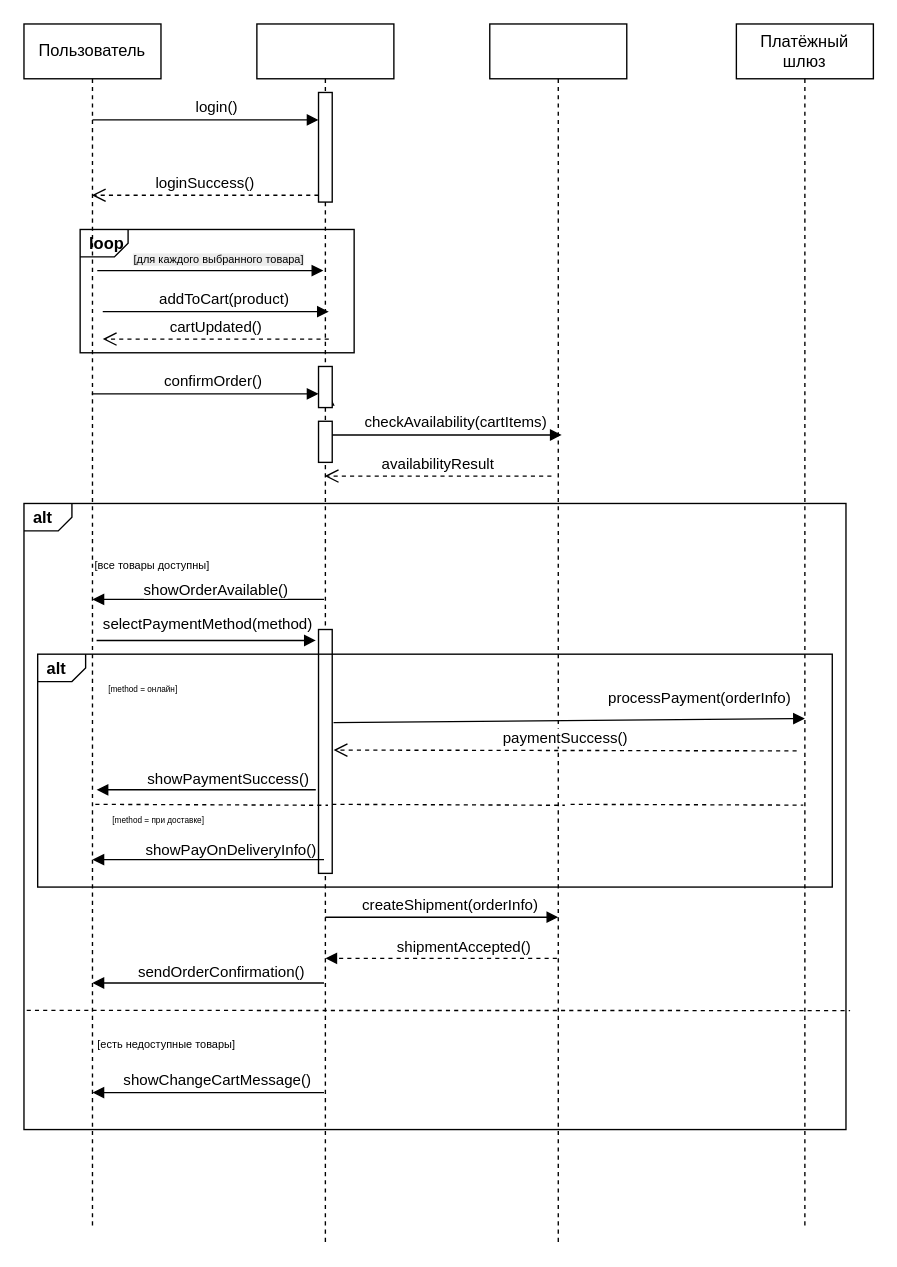
This 897x1267 diagram has some shape labels left out. Here are the shapes that lost their labels. From the top down, the box of each, then its label:
(256, 23, 394, 1243): Система
(488, 23, 627, 1243): Склад
